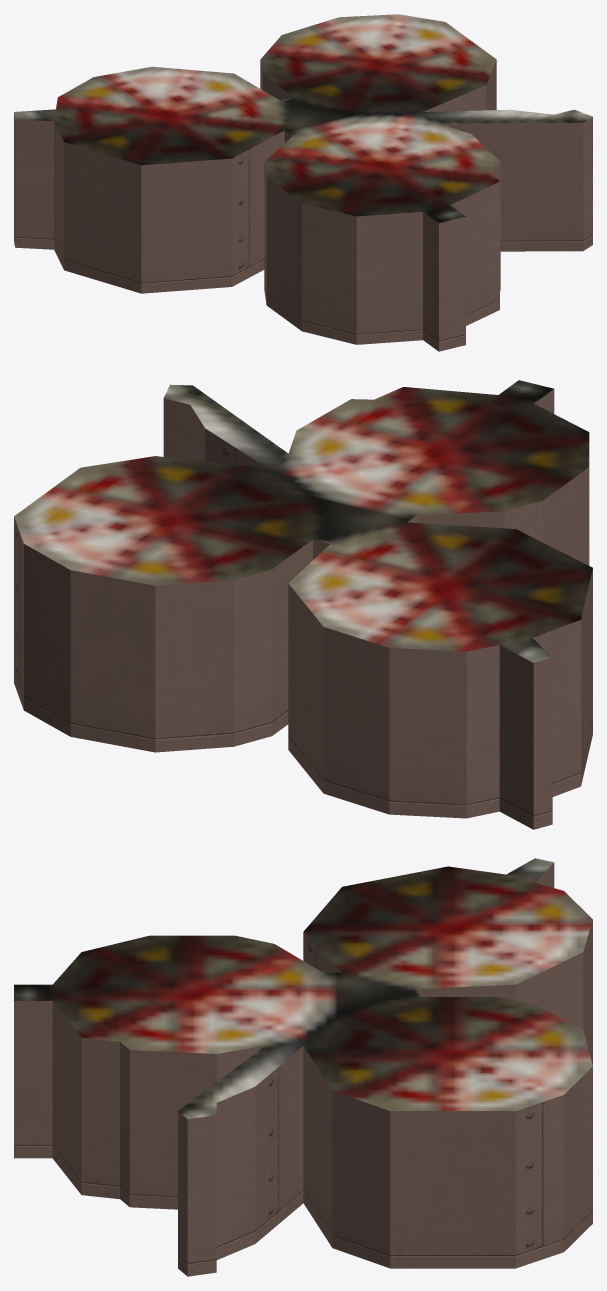
File: fuel_tank_heavy_44.glb
3 renders of one model, top to bottom at view 1: azimuth 30°, elevation 25°; view 2: azimuth 150°, elevation 25°; view 3: azimuth 270°, elevation 25°, orthographic. The views are drawn at different scales.
Parts seen in each view (by area): view 1: buildings/saxarba/fuel_tanks/fuel_tank_heavy_44; view 2: buildings/saxarba/fuel_tanks/fuel_tank_heavy_44; view 3: buildings/saxarba/fuel_tanks/fuel_tank_heavy_44.
Part boxes in pixels (x1,y1,x2,y2): buildings/saxarba/fuel_tanks/fuel_tank_heavy_44: (14,14,592,351); buildings/saxarba/fuel_tanks/fuel_tank_heavy_44: (14,380,592,829); buildings/saxarba/fuel_tanks/fuel_tank_heavy_44: (14,858,592,1276).
Bounding box in the file's own units: 64 × 18 × 60.
